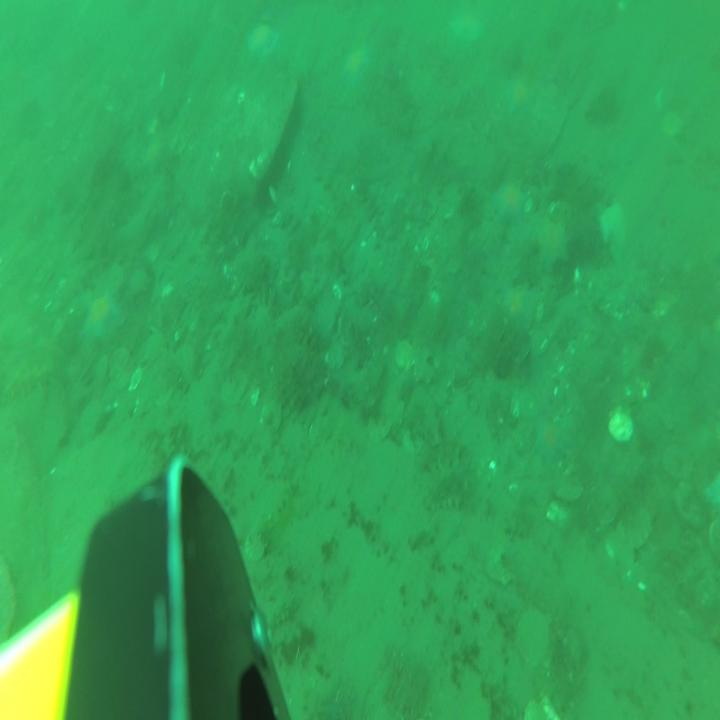holothurian: (424, 453, 473, 515)
scallop: (516, 606, 550, 666), (624, 496, 654, 548), (664, 439, 694, 482), (678, 481, 706, 526), (595, 481, 618, 526), (608, 406, 633, 444), (555, 470, 584, 502), (524, 695, 559, 720), (260, 402, 283, 436), (370, 411, 390, 445), (396, 338, 415, 371)
starfish: (538, 220, 571, 276), (85, 294, 123, 340), (503, 284, 537, 334), (535, 416, 566, 469), (494, 178, 528, 226), (600, 199, 629, 250), (342, 46, 370, 88), (507, 76, 533, 118), (452, 10, 485, 43), (249, 24, 279, 60), (704, 471, 720, 515)
